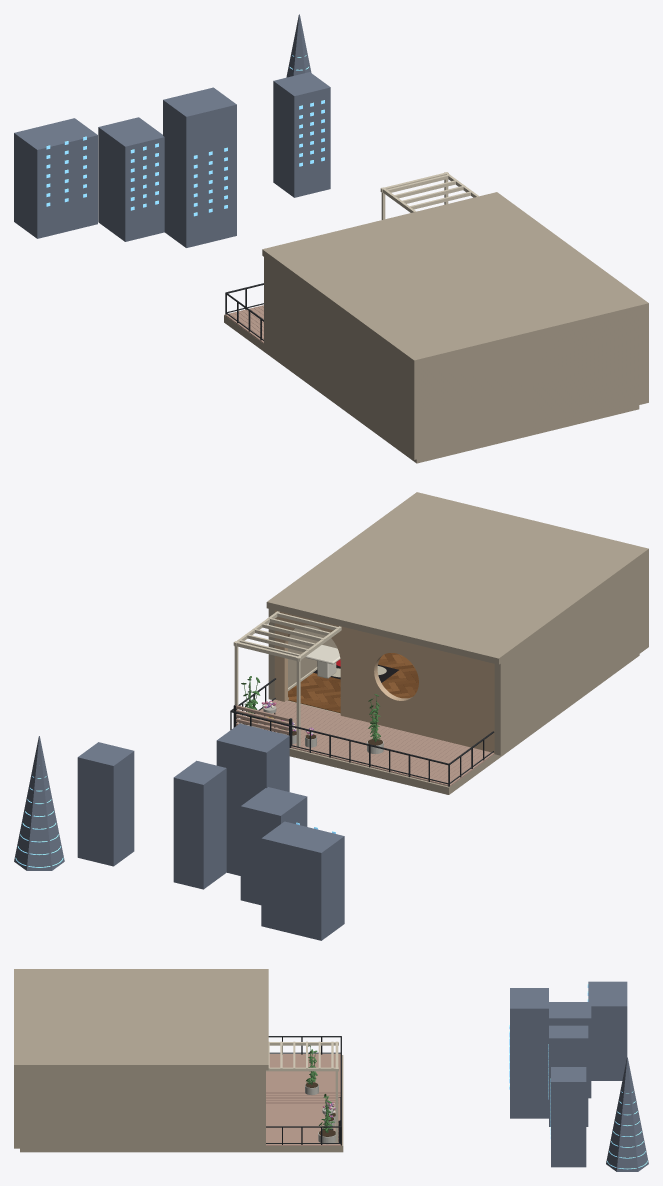
The model's file is Piano_Nook_Textured.glb.
3 renders of one model, top to bottom at view 1: azimuth 30°, elevation 25°; view 2: azimuth 150°, elevation 25°; view 3: azimuth 270°, elevation 25°, orthographic. The views are drawn at different scales.
Visible parts, largest first — view 1: INFERRED_Ceiling, INFERRED_Front_wall, INFERRED_Left_wall, CONTEXT_skyline_block, CONTEXT_skyline_block.004, CONTEXT_skyline_block.001, CONTEXT_skyline_block.003, Floor_structural_slab, CONTEXT_conical_tower; view 2: INFERRED_Ceiling, INFERRED_Left_wall, Shared_wall_real_oculus_and_arch, CONTEXT_skyline_block.004, CONTEXT_skyline_block.003, CONTEXT_skyline_block.002, CONTEXT_skyline_block, CONTEXT_skyline_block.001, CONTEXT_conical_tower, Terrace_slab, INFERRED_Right_wall; view 3: INFERRED_Ceiling, INFERRED_Right_wall, CONTEXT_skyline_block, CONTEXT_skyline_block.004, CONTEXT_skyline_block.003, CONTEXT_conical_tower, CONTEXT_skyline_block.002, CONTEXT_skyline_block.001, Floor_structural_slab, Terrace_slab, INFERRED_Front_wall, Pergola_depth_beam.001.
Boxes of the visible parts, bbox=[...] form: INFERRED_Ceiling: bbox=[262, 192, 648, 366]; INFERRED_Front_wall: bbox=[412, 309, 648, 459]; INFERRED_Left_wall: bbox=[264, 257, 412, 458]; CONTEXT_skyline_block: bbox=[163, 87, 236, 247]; CONTEXT_skyline_block.004: bbox=[14, 118, 97, 238]; CONTEXT_skyline_block.001: bbox=[98, 117, 164, 241]; CONTEXT_skyline_block.003: bbox=[273, 72, 330, 197]; Floor_structural_slab: bbox=[272, 356, 639, 463]; CONTEXT_conical_tower: bbox=[286, 14, 311, 77]; INFERRED_Ceiling: bbox=[266, 492, 648, 664]; INFERRED_Left_wall: bbox=[494, 556, 647, 755]; Shared_wall_real_oculus_and_arch: bbox=[274, 610, 494, 753]; CONTEXT_skyline_block.004: bbox=[261, 821, 344, 940]; CONTEXT_skyline_block.003: bbox=[77, 742, 134, 866]; CONTEXT_skyline_block.002: bbox=[173, 760, 226, 889]; CONTEXT_skyline_block: bbox=[216, 723, 289, 875]; CONTEXT_skyline_block.001: bbox=[240, 787, 307, 905]; CONTEXT_conical_tower: bbox=[14, 736, 64, 870]; Terrace_slab: bbox=[289, 748, 496, 794]; INFERRED_Right_wall: bbox=[268, 609, 337, 699]; INFERRED_Ceiling: bbox=[14, 969, 268, 1070]; INFERRED_Right_wall: bbox=[17, 1070, 265, 1148]; CONTEXT_skyline_block: bbox=[510, 988, 548, 1118]; CONTEXT_skyline_block.004: bbox=[588, 981, 627, 1080]; CONTEXT_skyline_block.003: bbox=[551, 1067, 586, 1167]; CONTEXT_conical_tower: bbox=[606, 1057, 648, 1171]; CONTEXT_skyline_block.002: bbox=[549, 1025, 588, 1126]; CONTEXT_skyline_block.001: bbox=[549, 1002, 591, 1098]; Floor_structural_slab: bbox=[20, 1148, 262, 1152]; Terrace_slab: bbox=[263, 1055, 343, 1152]; INFERRED_Front_wall: bbox=[14, 1070, 19, 1148]; Pergola_depth_beam.001: bbox=[266, 1067, 338, 1071].
Bounding box in the file's own units: 15.15 × 6.5 × 32.4.
29 materials, 9 textured.
